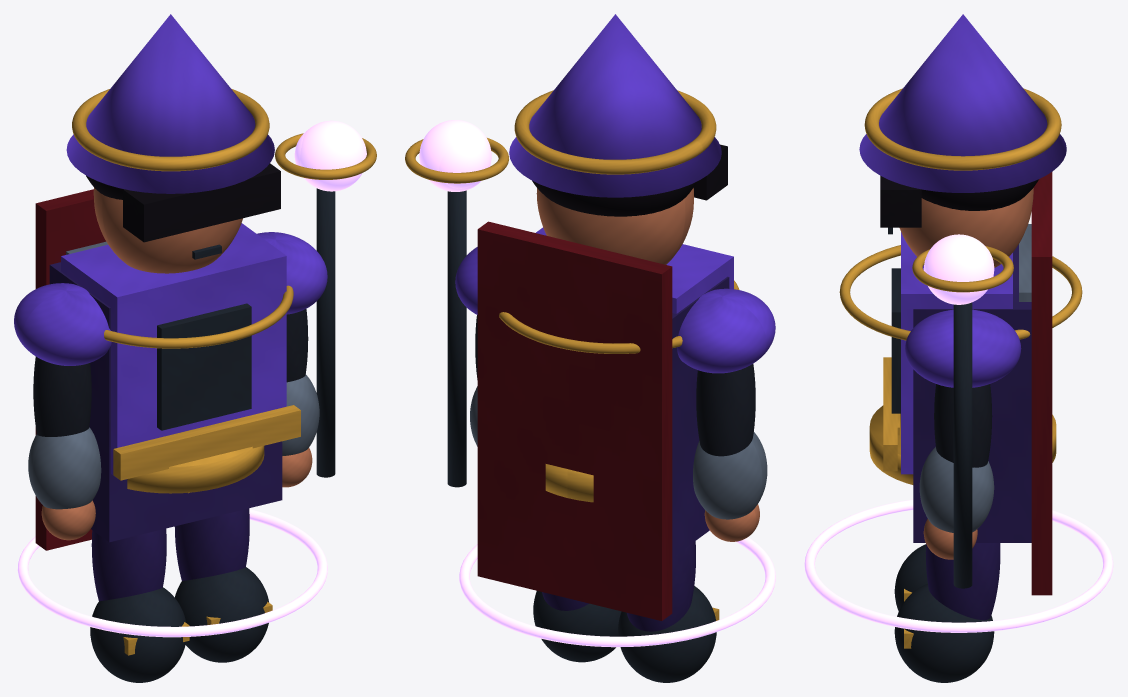
The model's file is Advanced.glb.
3 views of the same model, side by side, from view 1: azimuth 30°, elevation 25°; view 2: azimuth 150°, elevation 25°; view 3: azimuth 270°, elevation 25° (orthographic). The views are drawn at different scales.
Visible parts, largest first — view 1: ChestPlate, WizardHat, LayeredRobe, ChestInset, HairFringe, Shoulder, MageSash, Boot, Boot.001, Staff, MagicCircle, Head (+15 smaller); view 2: Cape, WizardHat, Shoulder, Head, Staff, LayeredRobe, MagicCircle, Arm, Gauntlet, Boot, HatBand, Boot.001 (+11 smaller); view 3: WizardHat, LayeredRobe, Cape, MagicCircle, Shoulder.001, Staff, Boot.001, Head, ChestPlate, HatBand, Leg.001, Gauntlet.001 (+12 smaller).
Part boxes in pixels (<box>): ChestPlate: <box>61,223,286,478</box>; WizardHat: <box>66,14,274,193</box>; LayeredRobe: <box>49,262,282,542</box>; ChestInset: <box>157,303,251,430</box>; HairFringe: <box>123,163,280,242</box>; Shoulder: <box>14,283,111,365</box>; MageSash: <box>113,405,300,480</box>; Boot: <box>90,587,185,682</box>; Boot.001: <box>175,567,268,662</box>; Staff: <box>316,188,335,477</box>; MagicCircle: <box>17,509,327,637</box>; Head: <box>93,187,242,273</box>; Cape: <box>477,221,672,620</box>; WizardHat: <box>509,14,721,197</box>; Shoulder: <box>677,288,775,373</box>; Head: <box>536,188,694,264</box>; Staff: <box>447,190,466,487</box>; LayeredRobe: <box>672,276,729,557</box>; MagicCircle: <box>459,530,775,647</box>; Arm: <box>696,364,755,456</box>; Gauntlet: <box>693,432,767,519</box>; Boot: <box>618,586,716,682</box>; HatBand: <box>514,90,716,174</box>; Boot.001: <box>533,591,621,662</box>; WizardHat: <box>859,14,1066,192</box>; LayeredRobe: <box>913,244,1031,542</box>; Cape: <box>1031,172,1052,595</box>; MagicCircle: <box>804,499,1113,632</box>; Shoulder.001: <box>905,309,1021,387</box>; Staff: <box>953,302,972,588</box>; Boot.001: <box>894,584,994,682</box>; Head: <box>899,188,1033,267</box>; ChestPlate: <box>901,232,1012,474</box>; HatBand: <box>864,88,1061,170</box>; Leg.001: <box>925,543,1000,620</box>; Gauntlet.001: <box>919,447,994,532</box>.
Bounding box in the file's own units: 1.93 × 3.43 × 1.49.
Materials: 12 (9 with a texture image).
